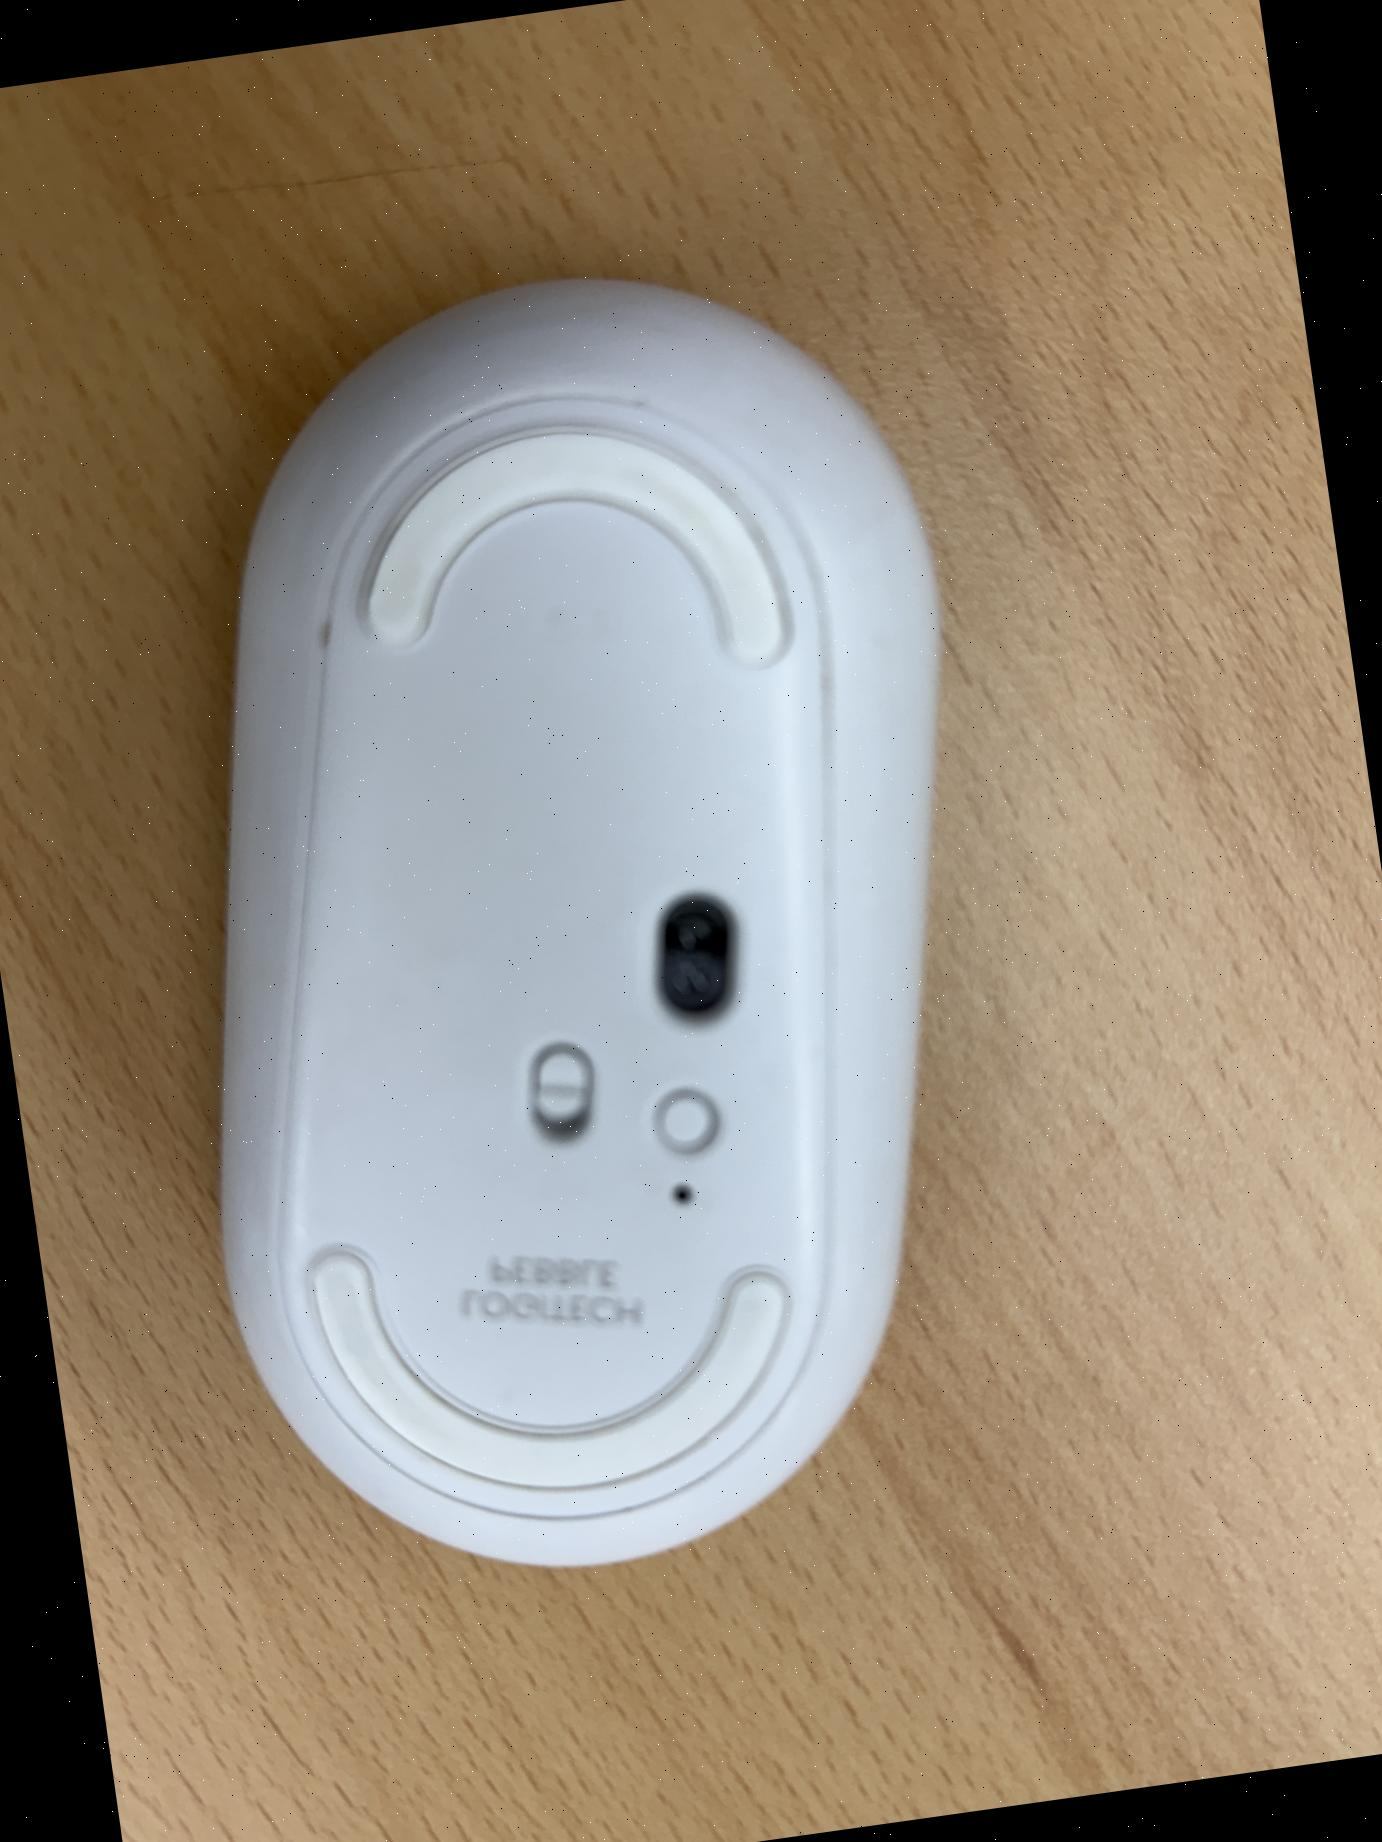back: (81, 216, 1073, 1617)
